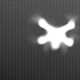plane: (32, 14, 78, 52)
